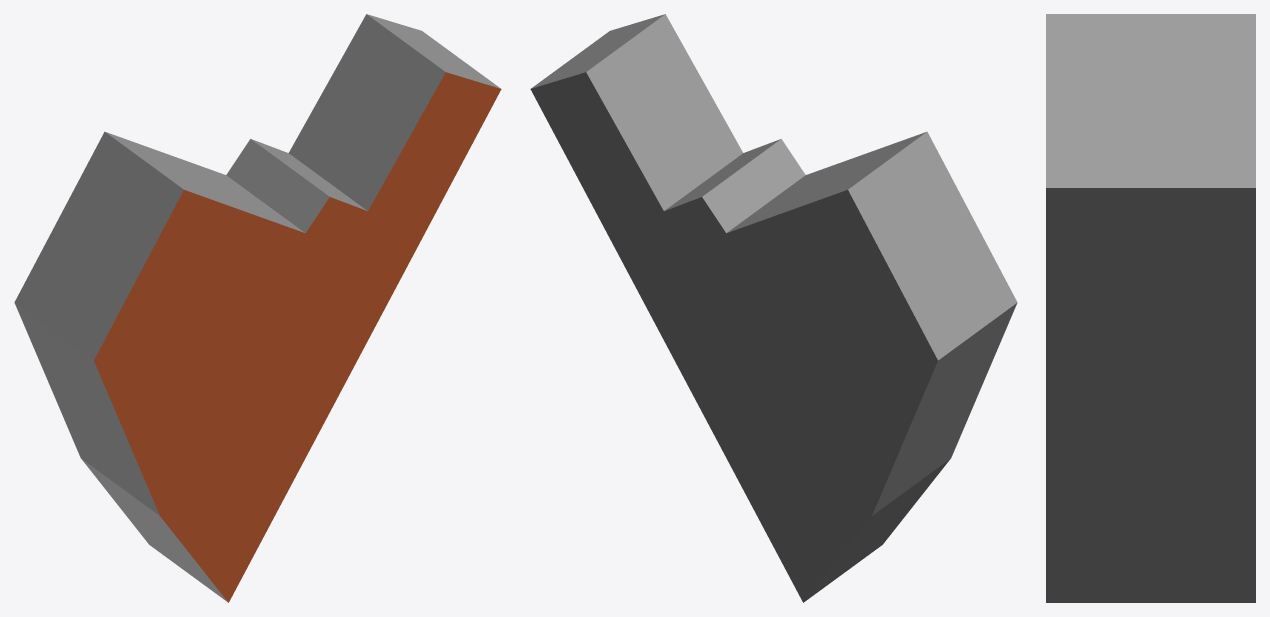
The model's file is construction_4156_assumed_A_Casa_h6m.obj.
3 renders of one model, left to right at view 1: azimuth 30°, elevation 25°; view 2: azimuth 150°, elevation 25°; view 3: azimuth 270°, elevation 25°, orthographic. The views are drawn at different scales.
Parts seen in each view (by area): view 1: construction_4156_assumed_A_Casa; view 2: construction_4156_assumed_A_Casa; view 3: construction_4156_assumed_A_Casa.
Boxes of the visible parts, left/top/right/bottom form: construction_4156_assumed_A_Casa: left=14, top=14, right=501, bottom=602; construction_4156_assumed_A_Casa: left=530, top=14, right=1017, bottom=602; construction_4156_assumed_A_Casa: left=1046, top=14, right=1255, bottom=602.
Bounding box in the file's own units: 17.78 × 19.91 × 6.
